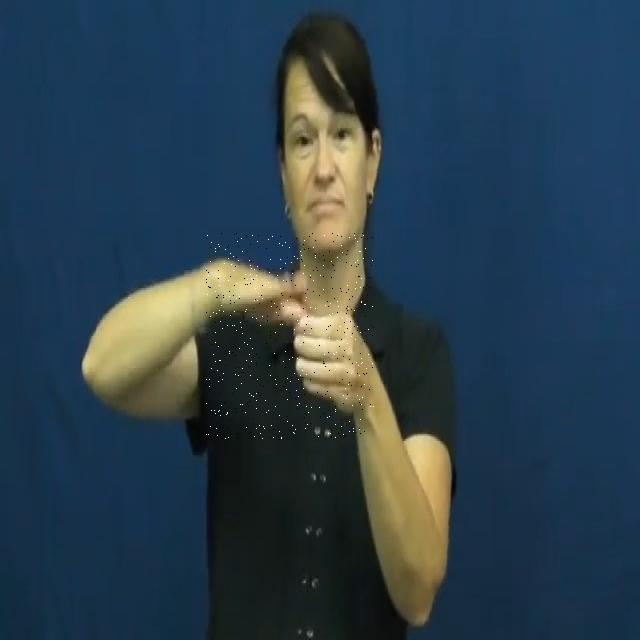lid: (206, 233, 374, 440)
